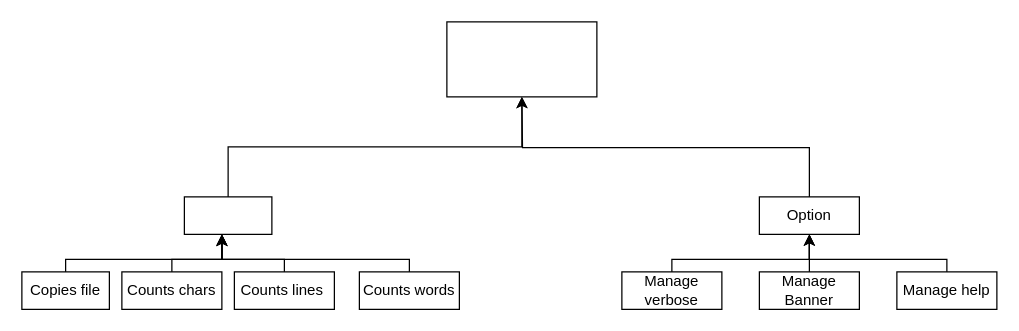
Image size: 1019x331. Some labels were removed from this diagram. The box of each missing label's shape, as (x1, y1, x2, y2) in pixels:
Opens file: (183, 196, 272, 234)
Parses input: (446, 21, 597, 97)
